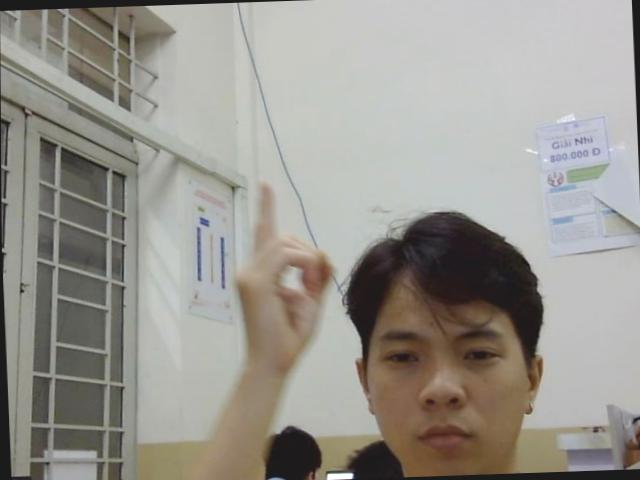D: (225, 178, 341, 373)
